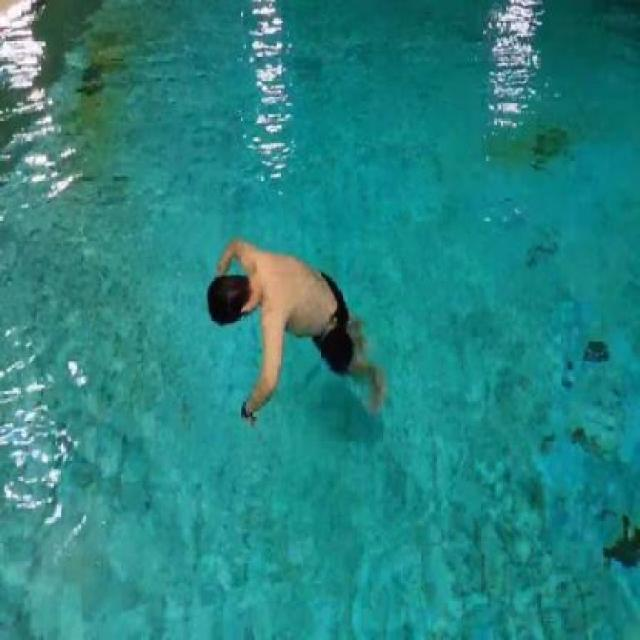Out of Water: (184, 239, 429, 437)
